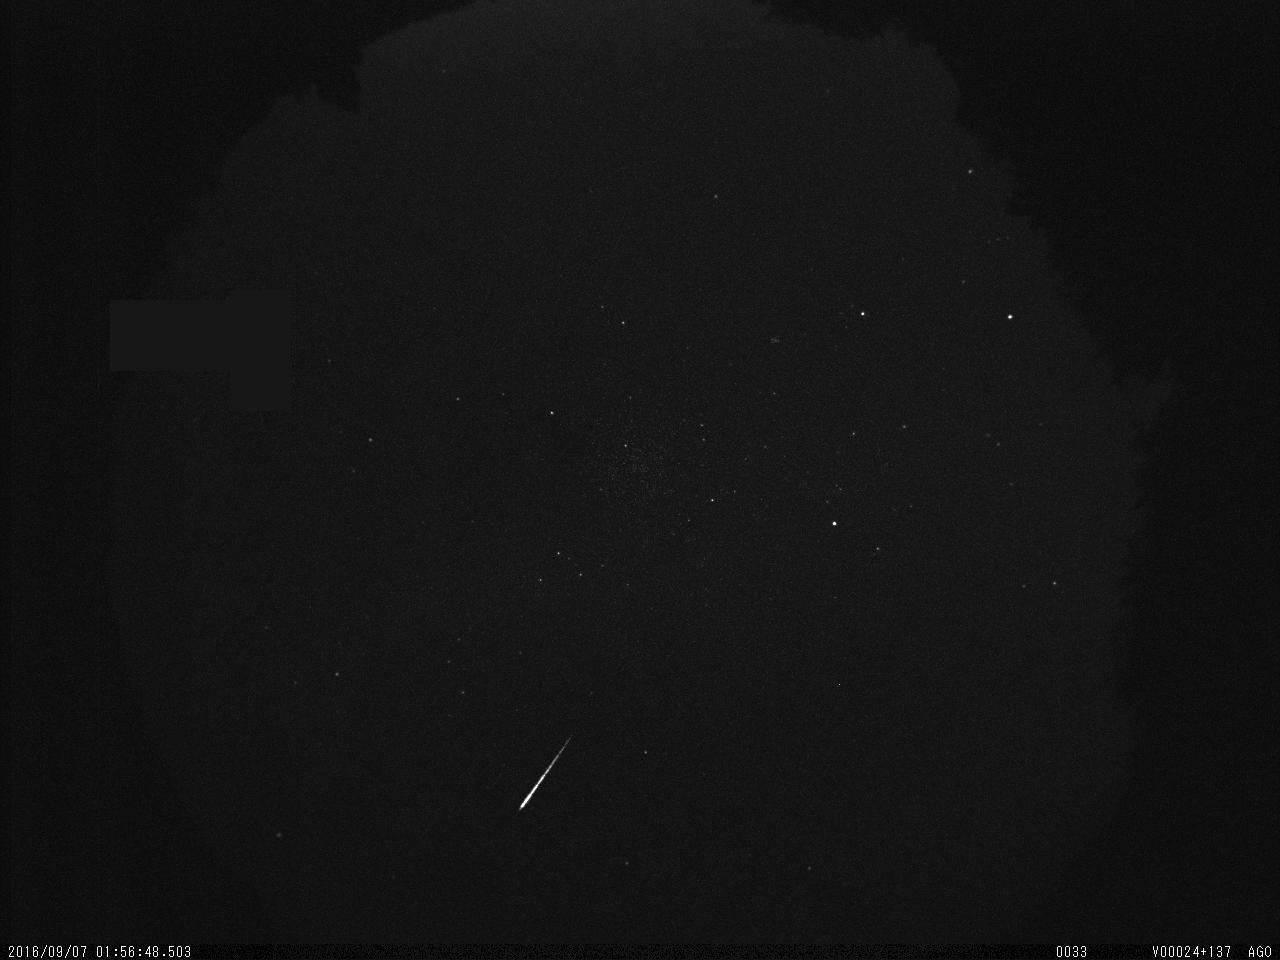meteor: (470, 710, 606, 836)
